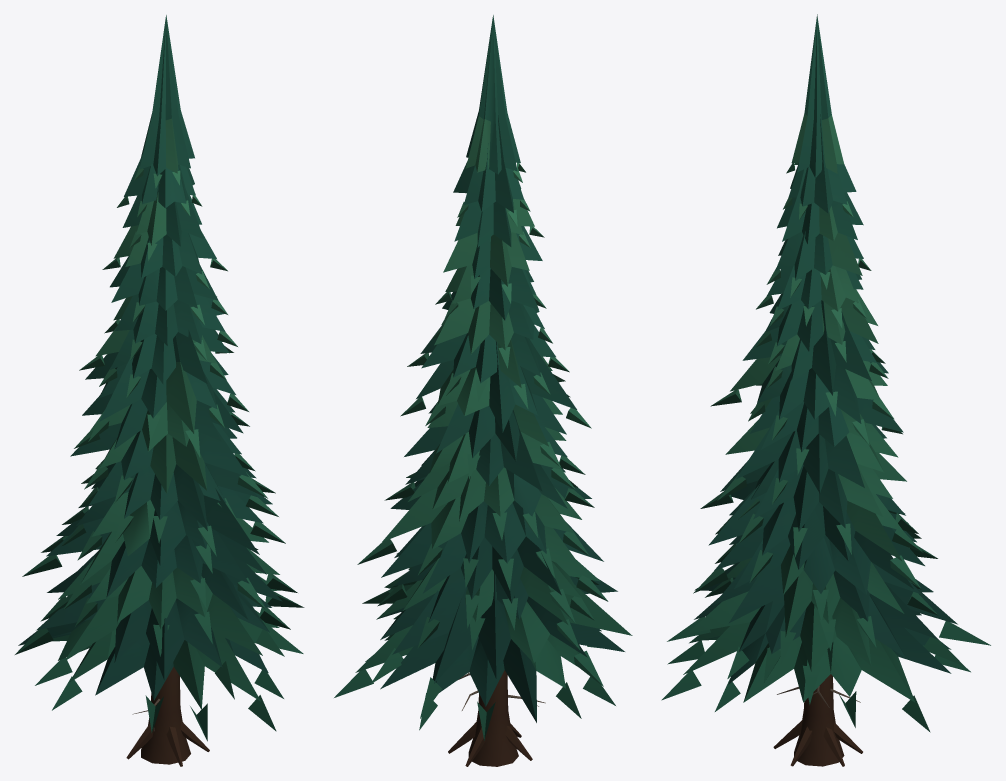
Rendered from Spruce_C.fbx.
3 renders of one model, left to right at view 1: azimuth 30°, elevation 25°; view 2: azimuth 150°, elevation 25°; view 3: azimuth 270°, elevation 25°, orthographic.
Parts seen in each view (by area): view 1: Spruce_C_LOD0; view 2: Spruce_C_LOD0; view 3: Spruce_C_LOD0.
Part boxes in pixels (<box>): Spruce_C_LOD0: <box>15,15,304,766</box>; Spruce_C_LOD0: <box>334,15,632,766</box>; Spruce_C_LOD0: <box>661,14,990,766</box>.
Size of what is drawn, in the model's own units: 8.47 by 22.5 by 9.09.
1 material, 1 textured.
